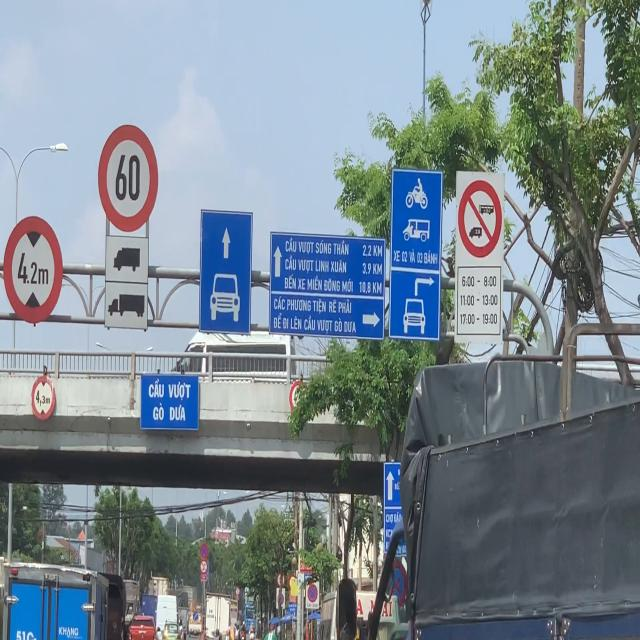Cam con lai: (456, 175, 504, 259)
Cam dung va do: (384, 560, 408, 611), (307, 584, 318, 603), (200, 543, 208, 559)
Chieu cao toi da: (3, 215, 64, 324), (31, 376, 56, 420)
Hieu lenh: (193, 612, 198, 620)
Toc do toi da: (98, 125, 159, 232)
